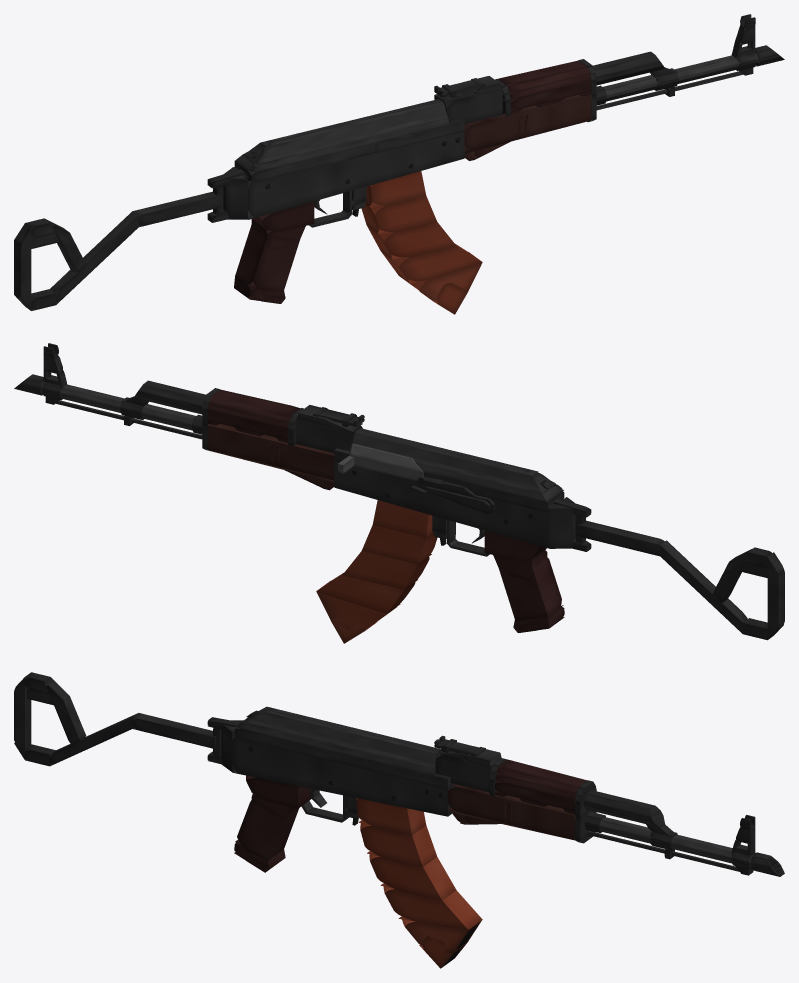
File: kms72.obj
The picture shows the model from 3 angles, top to bottom: view 1: azimuth 30°, elevation 25°; view 2: azimuth 150°, elevation 25°; view 3: azimuth 330°, elevation 25°; orthographic projection.
Parts seen in each view (by area): view 1: gunModel0, gunModel20, gunModel7, gunModel75, gunModel77, ammoModel3, ammoModel2, ammoModel1, pumpModel5, gunModel76, pumpModel1, gunModel2 (+17 smaller); view 2: gunModel0, gunModel20, gunModel7, gunModel77, ammoModel3, ammoModel2, ammoModel1, pumpModel5, pumpModel1, ammoModel0, gunModel2, gunModel26 (+18 smaller); view 3: gunModel0, gunModel20, ammoModel3, ammoModel2, gunModel75, gunModel7, ammoModel1, gunModel77, ammoModel0, gunModel76, pumpModel1, gunModel26 (+15 smaller).
Boxes of the visible parts, x1=… form: gunModel0: x1=232, y1=131, x2=464, y2=219; gunModel20: x1=464, y1=94, x2=591, y2=151; gunModel7: x1=235, y1=225, x2=299, y2=291; gunModel75: x1=234, y1=119, x2=464, y2=183; gunModel77: x1=245, y1=104, x2=446, y2=161; ammoModel3: x1=381, y1=244, x2=482, y2=285; ammoModel2: x1=367, y1=222, x2=456, y2=260; ammoModel1: x1=361, y1=196, x2=437, y2=235; pumpModel5: x1=50, y1=211, x2=138, y2=304; gunModel76: x1=235, y1=118, x2=449, y2=173; pumpModel1: x1=132, y1=191, x2=221, y2=227; gunModel2: x1=434, y1=88, x2=503, y2=123; gunModel0: x1=334, y1=460, x2=562, y2=548; gunModel20: x1=207, y1=424, x2=334, y2=480; gunModel7: x1=499, y1=556, x2=563, y2=621; gunModel77: x1=353, y1=433, x2=555, y2=490; ammoModel3: x1=317, y1=573, x2=415, y2=614; ammoModel2: x1=342, y1=551, x2=429, y2=589; ammoModel1: x1=361, y1=525, x2=437, y2=564; pumpModel5: x1=660, y1=540, x2=747, y2=633; pumpModel1: x1=577, y1=520, x2=664, y2=556; ammoModel0: x1=372, y1=500, x2=433, y2=537; gunModel2: x1=296, y1=418, x2=362, y2=452; gunModel26: x1=209, y1=389, x2=299, y2=421; gunModel0: x1=232, y1=733, x2=455, y2=816; gunModel20: x1=448, y1=783, x2=575, y2=840; ammoModel3: x1=383, y1=884, x2=482, y2=929; ammoModel2: x1=369, y1=854, x2=456, y2=900; gunModel75: x1=234, y1=722, x2=453, y2=789; gunModel7: x1=235, y1=800, x2=299, y2=860; ammoModel1: x1=360, y1=823, x2=436, y2=866; gunModel77: x1=247, y1=707, x2=442, y2=767; ammoModel0: x1=356, y1=798, x2=426, y2=835; gunModel76: x1=235, y1=717, x2=435, y2=775; pumpModel1: x1=132, y1=713, x2=216, y2=748; gunModel26: x1=496, y1=759, x2=586, y2=793.
Bounding box in the file's own units: 27.8 × 7.73 × 1.81.
